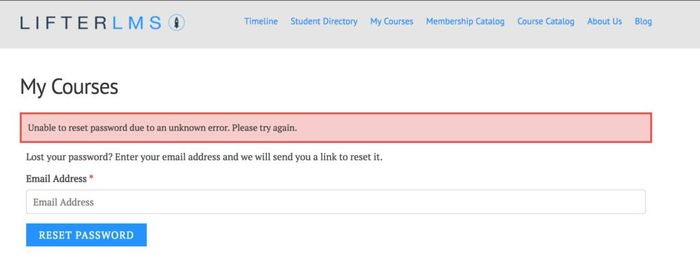error_field: (19, 111, 653, 144)
error_message: (25, 118, 299, 137)
